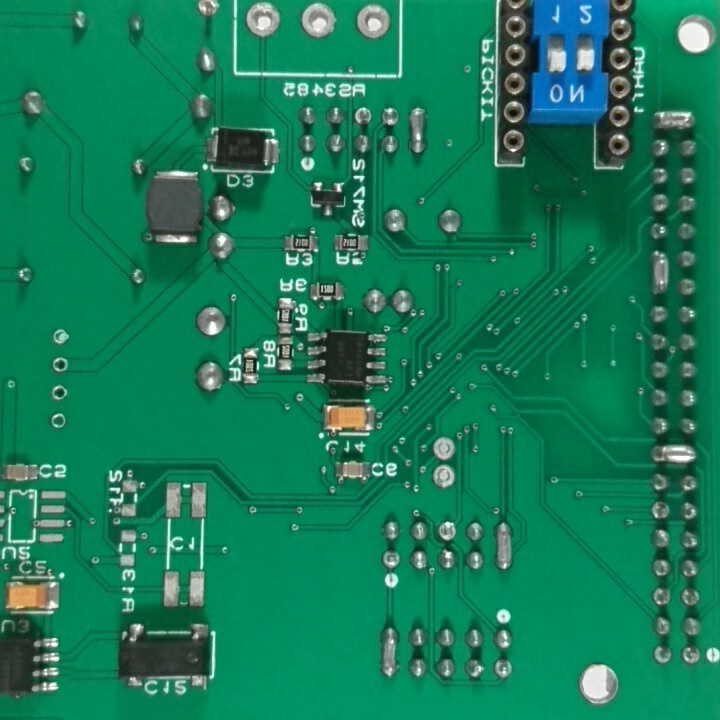F: (296, 1, 340, 43), (243, 1, 285, 40), (356, 3, 396, 42), (430, 463, 458, 494), (433, 518, 461, 546), (432, 433, 459, 461), (650, 500, 673, 528), (379, 546, 403, 572), (680, 642, 704, 668), (191, 1, 225, 19), (50, 327, 73, 351), (350, 104, 373, 128), (48, 409, 69, 435), (493, 656, 513, 683), (680, 587, 701, 612), (50, 355, 71, 378), (49, 383, 69, 403)
P: (404, 101, 436, 159), (376, 620, 403, 684), (493, 513, 516, 577), (647, 442, 705, 467), (645, 109, 702, 134), (647, 245, 673, 298)
